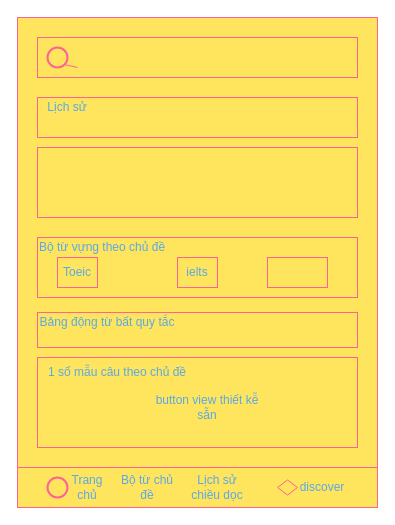
This 395x525 diagram has some shape labels left out. Each missing label, with the box of its shape:
3 hinh Banner: (36, 146, 358, 218)
basic el: (266, 256, 328, 288)
